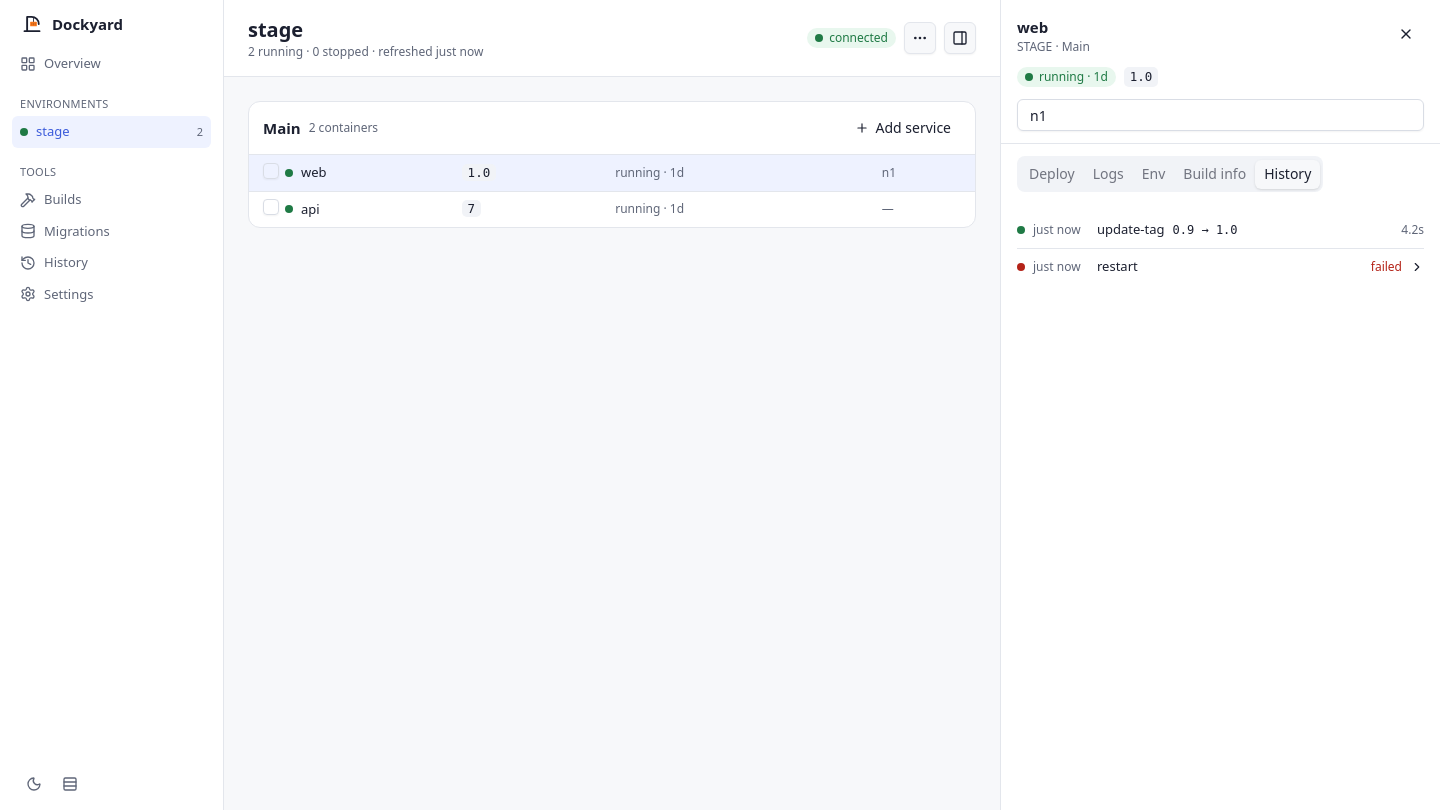
it: ContainerDrawer › shows history with expandable failures
This screenshot has width=1440, height=810.
Expected: the heading "web" is shown, [1017,17,1048,37]
Expected: the text "0.9 → 1.0" is shown, [1172,222,1238,238]
Click the button "just now restart failed".
click(1057, 266)  # box [1017,249,1424,284]
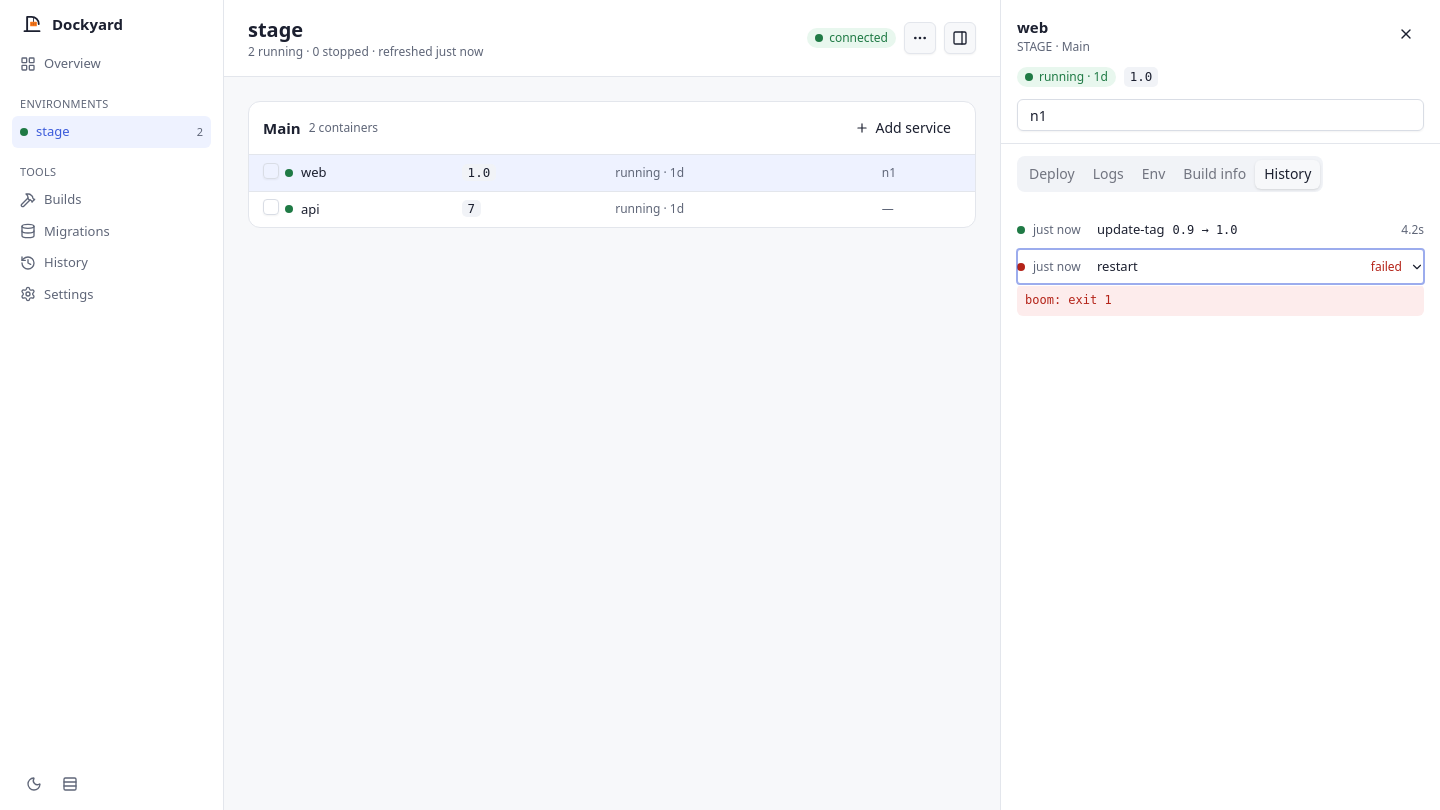
Result: the text "boom: exit 1" is shown at [1017,284,1424,316]
